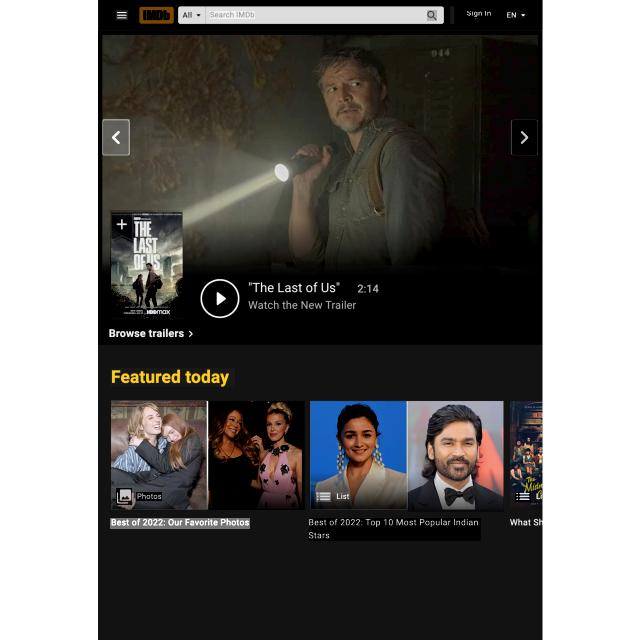CheckBox: (108, 328, 194, 341)
CheckedTextView: (178, 6, 444, 25), (178, 6, 444, 24)
Input field: (309, 518, 482, 541), (110, 518, 250, 529)
Switch: (98, 31, 542, 265)
accordion: (450, 6, 454, 24)
alert: (178, 6, 206, 24), (508, 10, 528, 19)
bag: (99, 0, 543, 30)
breadcrumbs: (110, 368, 235, 387)
carousel: (116, 488, 132, 505), (515, 492, 531, 502), (316, 492, 331, 502), (116, 10, 128, 20), (427, 10, 437, 21)
copy: (408, 401, 504, 512), (111, 400, 207, 510), (210, 401, 306, 510), (311, 401, 407, 509), (110, 210, 183, 318)
data feed: (464, 12, 492, 20)
date picker: (139, 5, 175, 25)
decoration: (511, 119, 539, 156), (103, 119, 130, 155), (115, 10, 129, 21)
footer: (210, 11, 255, 19)
illustration: (136, 492, 162, 501), (335, 492, 350, 501)
